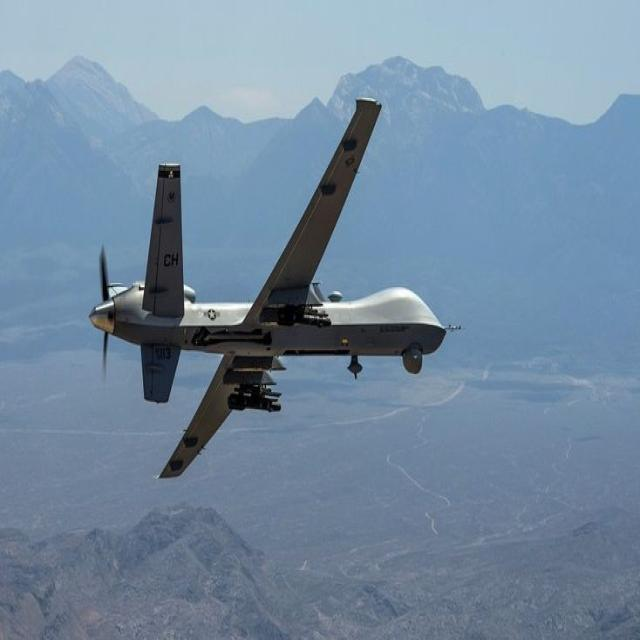iha: (80, 96, 444, 481)
